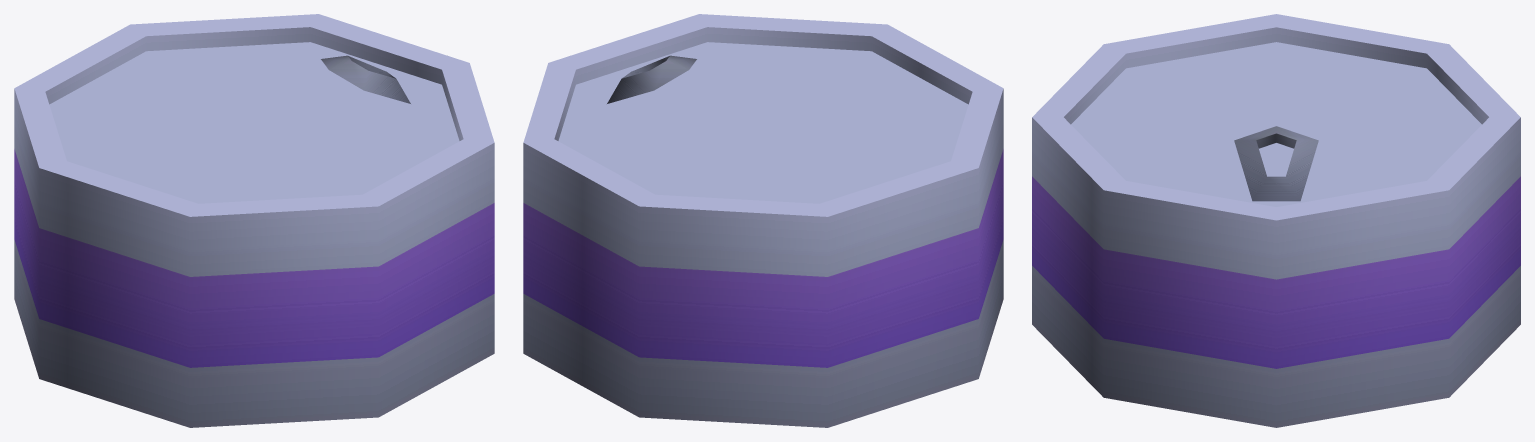
Rendered from can-small.glb.
3 views of the same model, side by side, from view 1: azimuth 30°, elevation 25°; view 2: azimuth 150°, elevation 25°; view 3: azimuth 270°, elevation 25° (orthographic).
Visible parts, largest first — view 1: can-small, Group; view 2: can-small, Group; view 3: can-small, Group.
Part boxes in pixels (<box>): can-small: <box>14,14,494,427</box>; Group: <box>321,55,410,103</box>; can-small: <box>523,14,1003,427</box>; Group: <box>607,55,696,103</box>; can-small: <box>1032,14,1520,427</box>; Group: <box>1234,126,1318,201</box>.
Size of the model in its own units: 0.3 by 0.1611 by 0.3.
1 material, 1 textured.
